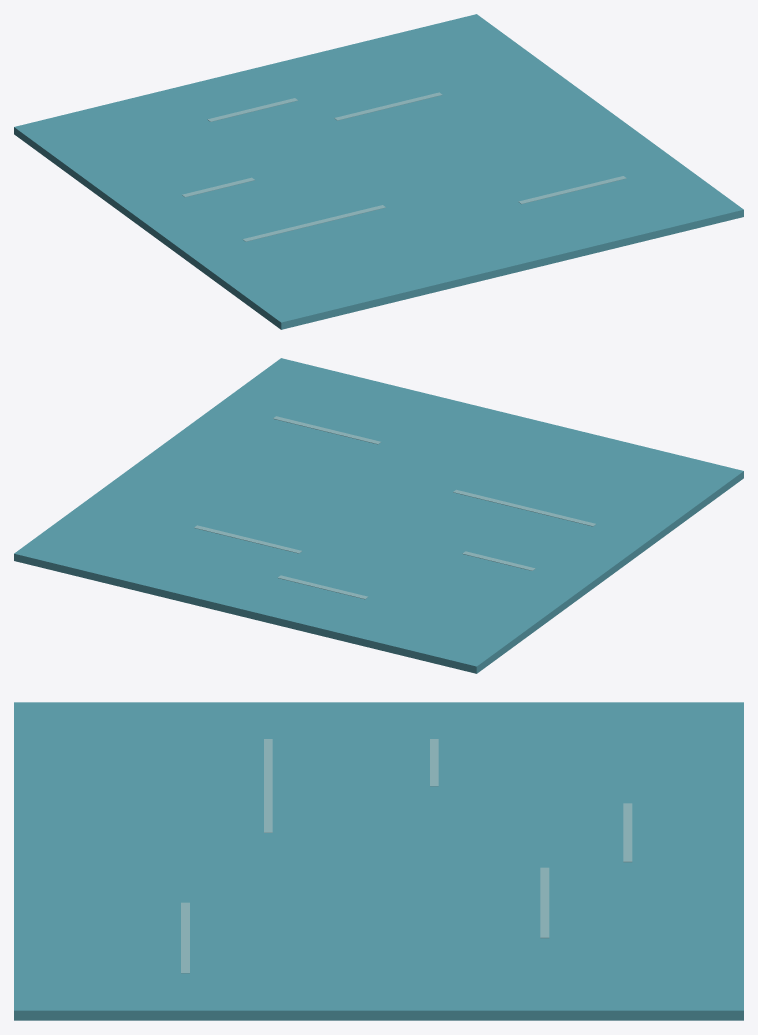
File: water.glb
3 renders of one model, top to bottom at view 1: azimuth 30°, elevation 25°; view 2: azimuth 150°, elevation 25°; view 3: azimuth 270°, elevation 25°, orthographic. The views are drawn at different scales.
Parts seen in each view (by area): view 1: water; view 2: water; view 3: water.
Boxes of the visible parts, left/top/right/bottom form: water: left=14, top=14, right=743, bottom=329; water: left=14, top=358, right=743, bottom=673; water: left=14, top=702, right=743, bottom=1020.
Size of the model in its own units: 13.2 by 0.21 by 13.2.
